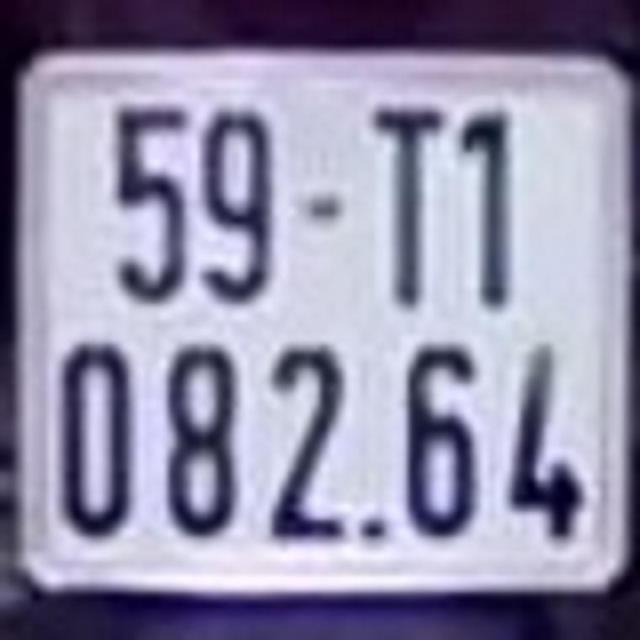0: (62, 346, 135, 536)
1: (462, 112, 517, 298)
2: (271, 346, 348, 537)
4: (511, 334, 588, 540)
5: (116, 105, 192, 298)
6: (403, 346, 480, 533)
8: (167, 346, 241, 543)
9: (198, 106, 278, 308)
T: (373, 104, 444, 302)
